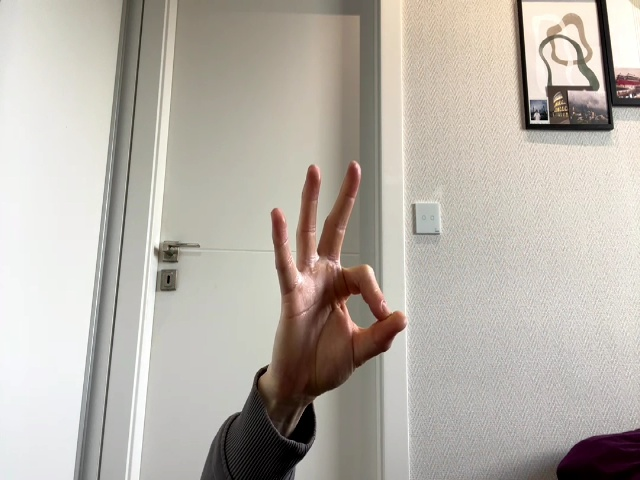O: (271, 161, 406, 393)
